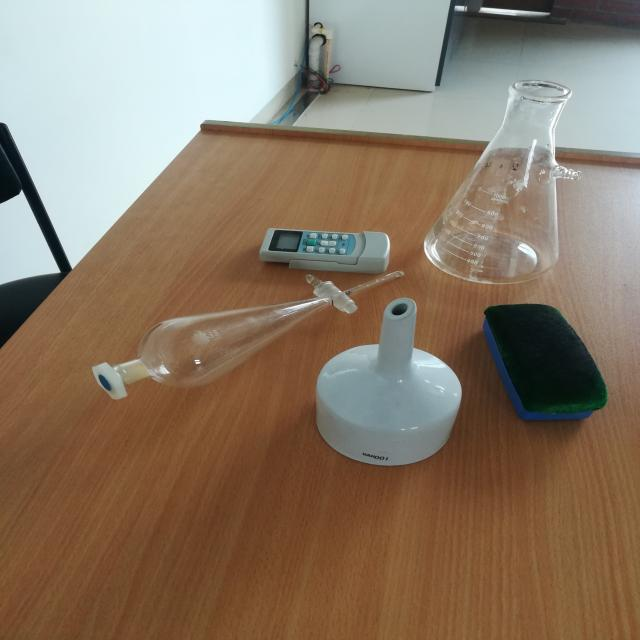Buchner_Funnel: (314, 284, 478, 483)
Conical_Flask: (422, 31, 595, 293)
Separating_Funnel: (74, 240, 422, 407)
